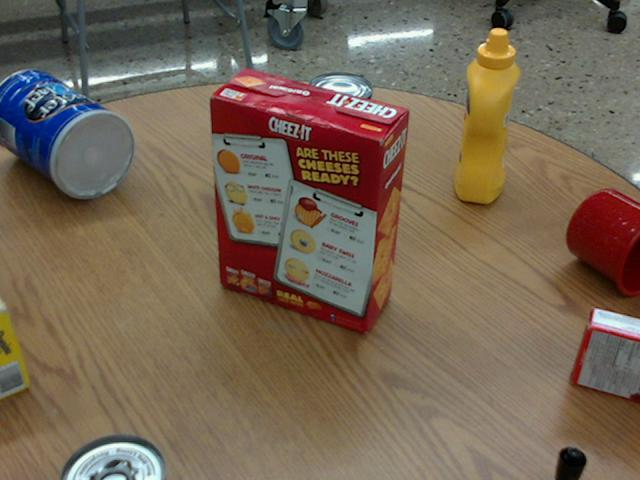cracker_box: (212, 68, 410, 331)
gelatin_box: (573, 309, 639, 402)
large_marker: (560, 450, 592, 479)
master_chef_can: (0, 69, 138, 198)
mug: (567, 188, 639, 296)
mustard_bottle: (455, 28, 520, 202)
potted_meat_can: (222, 89, 310, 196)
sugar_box: (0, 290, 33, 398)
tomato_soup_can: (64, 434, 170, 479)
tuna_fish_can: (310, 70, 375, 123)
